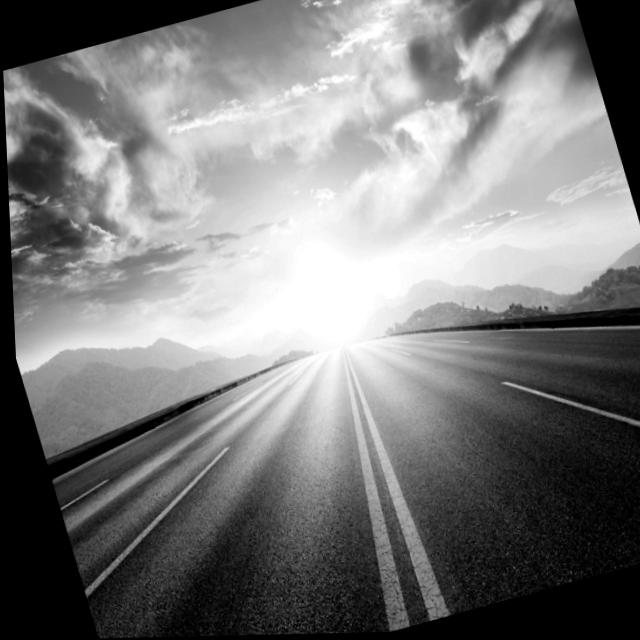cleat: (11, 190, 614, 639)
